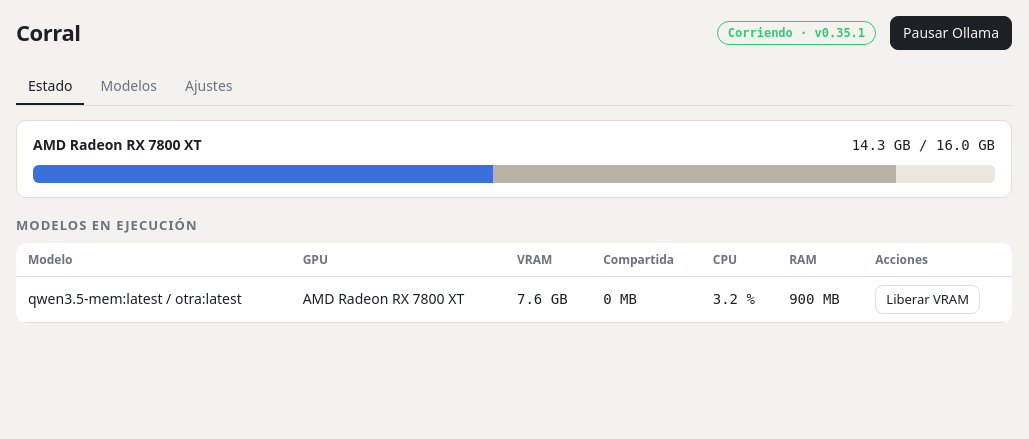
Test: Estado muestra errores al liberar VRAM como avisos
Click the button "Liberar VRAM" at (928, 300), box [875,285,980,314]
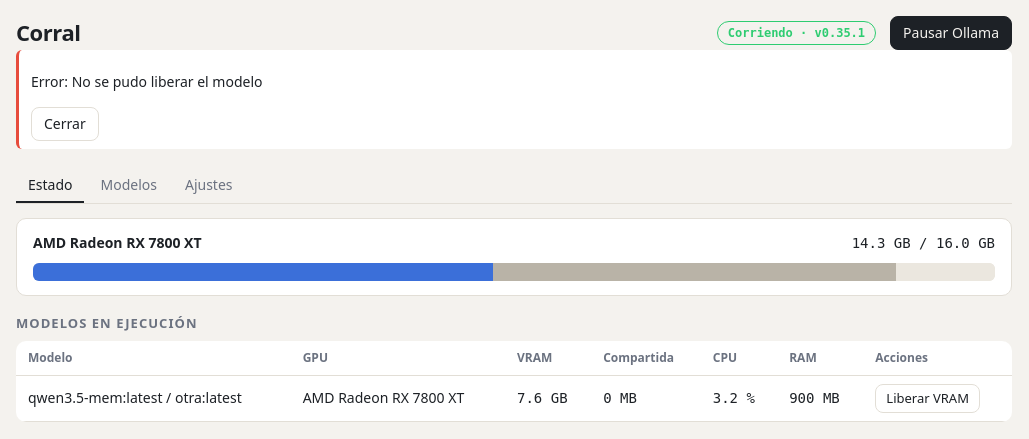
Check: the text "Error: No se pudo liberar el modelo" is shown, box [31,72,262,91]
